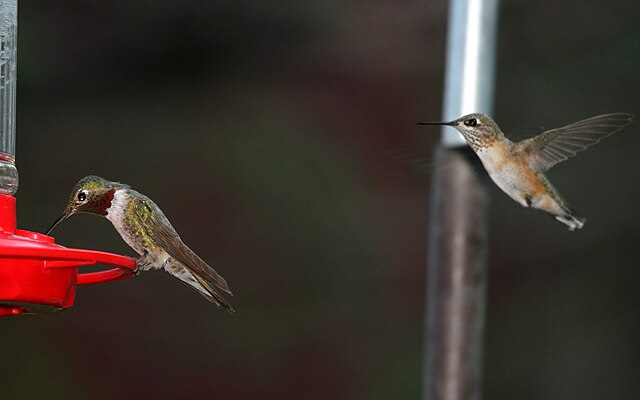selasphorus platycercus: (42, 172, 234, 312), (418, 110, 634, 227)
